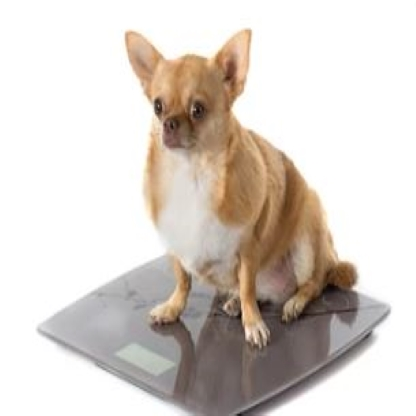chihuahua: (121, 25, 361, 350)
